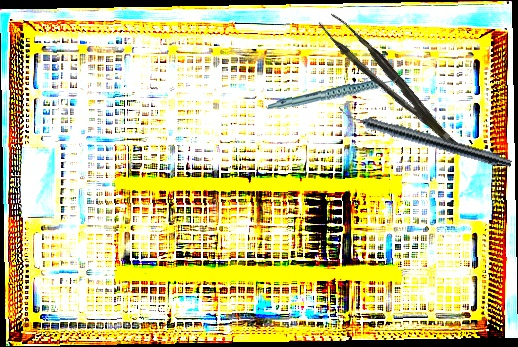Handpiece: (335, 104, 514, 171), (267, 74, 404, 115)
Tissue Forceps: (317, 4, 461, 166)
